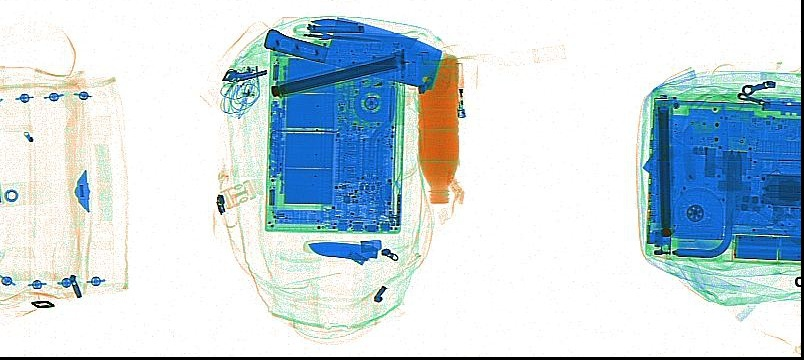knife: (640, 134, 798, 238), (263, 14, 443, 93), (303, 239, 377, 258), (306, 14, 364, 37)
lighter: (454, 59, 464, 118)
scissors: (289, 20, 382, 48)
